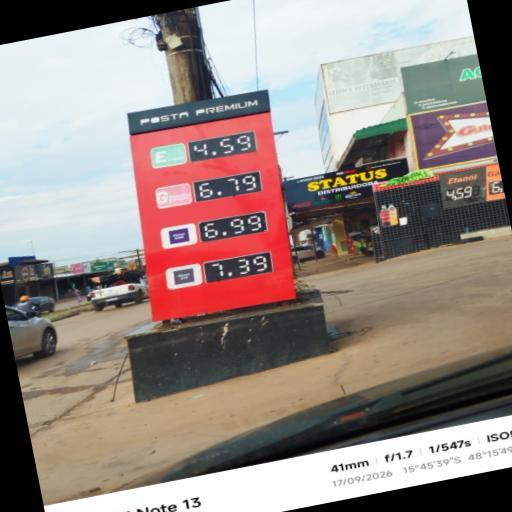ETANOL: (149, 143, 185, 167)
GASOLINA C: (155, 184, 195, 211)
S10: (168, 264, 201, 288)
S500: (163, 223, 194, 248)
placa: (132, 93, 294, 317)
preco: (198, 209, 267, 245), (189, 130, 258, 164), (194, 170, 262, 203), (206, 251, 272, 284)
